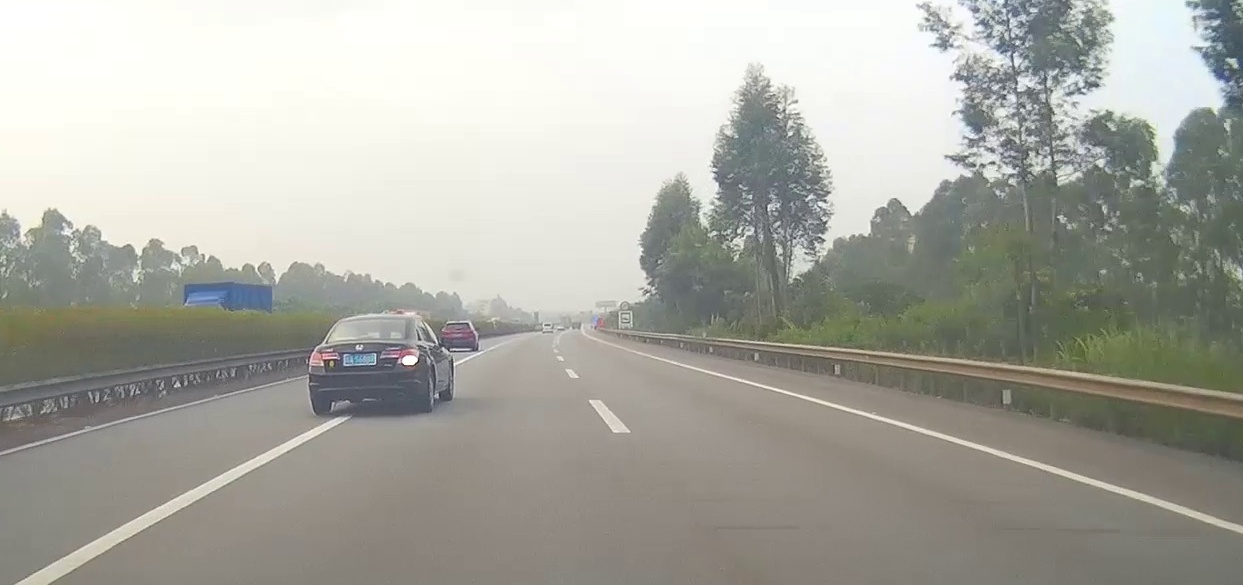L_light: (309, 351, 340, 367), (442, 330, 449, 335)
R_light: (379, 349, 418, 366), (467, 330, 474, 334)
T_light: (363, 319, 380, 323), (455, 324, 461, 326)
day-no: (440, 322, 476, 351)
day-right: (308, 316, 419, 416)
